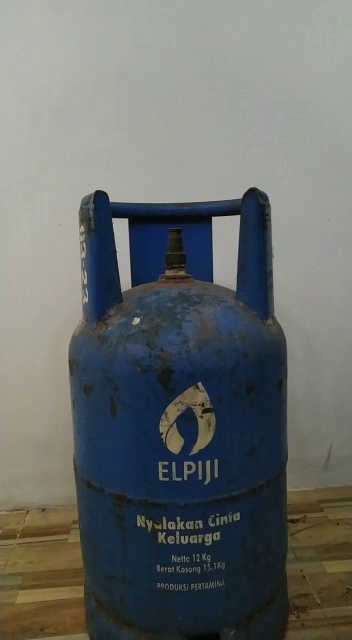blue_gas: (68, 187, 290, 640)
